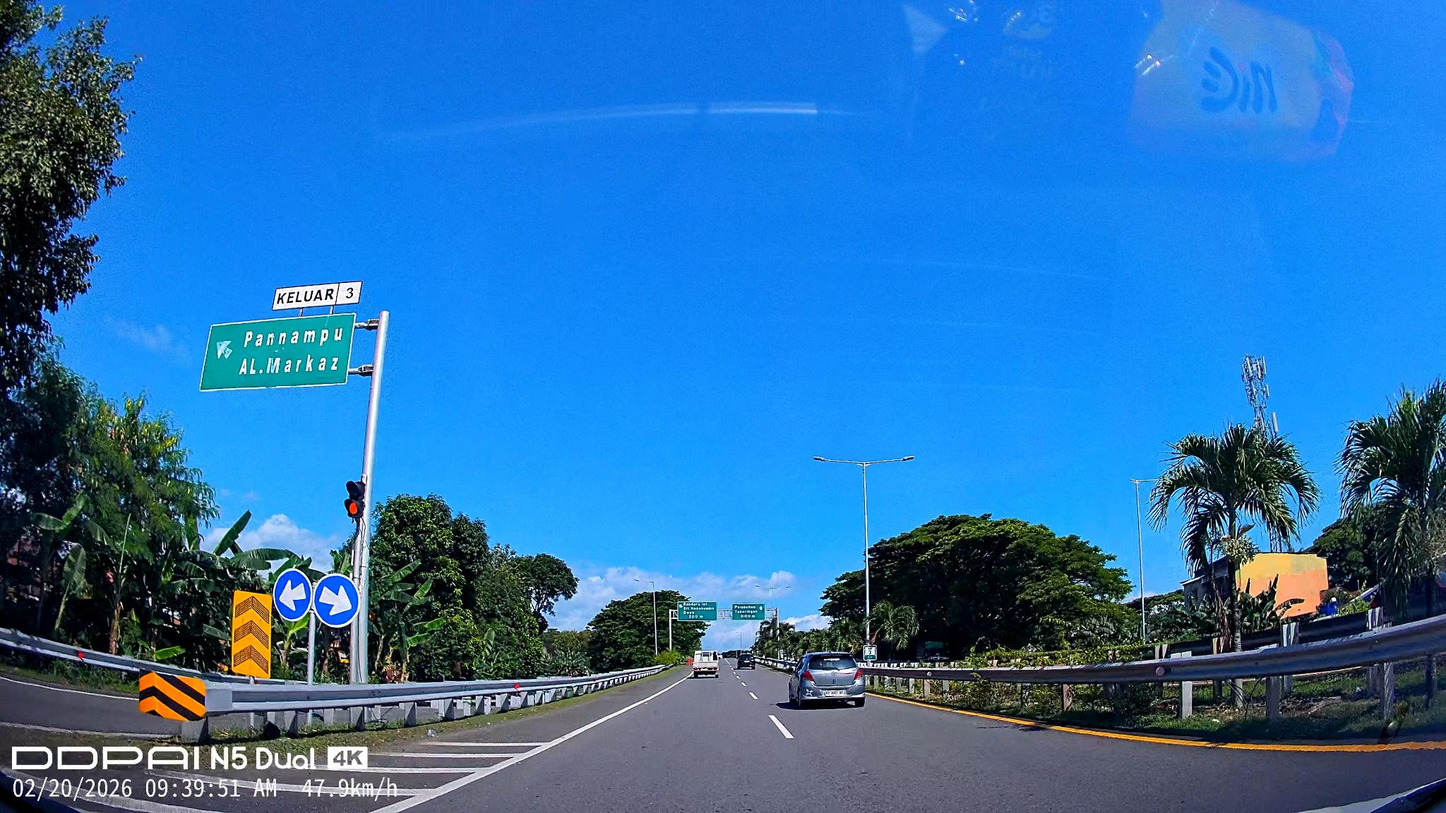rambu_teks: (200, 311, 355, 393)
